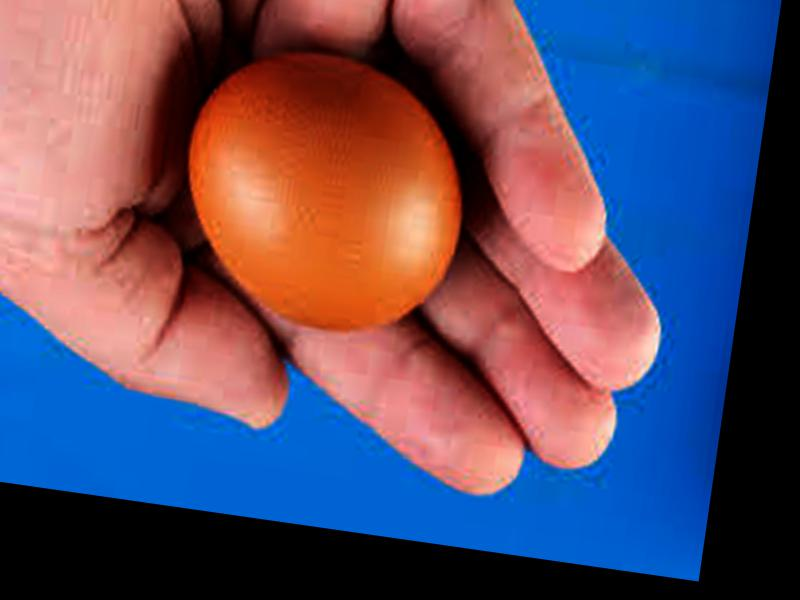Eggs: (168, 43, 485, 346)
